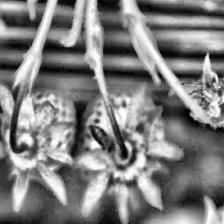Gray Mold: (168, 52, 224, 126)
